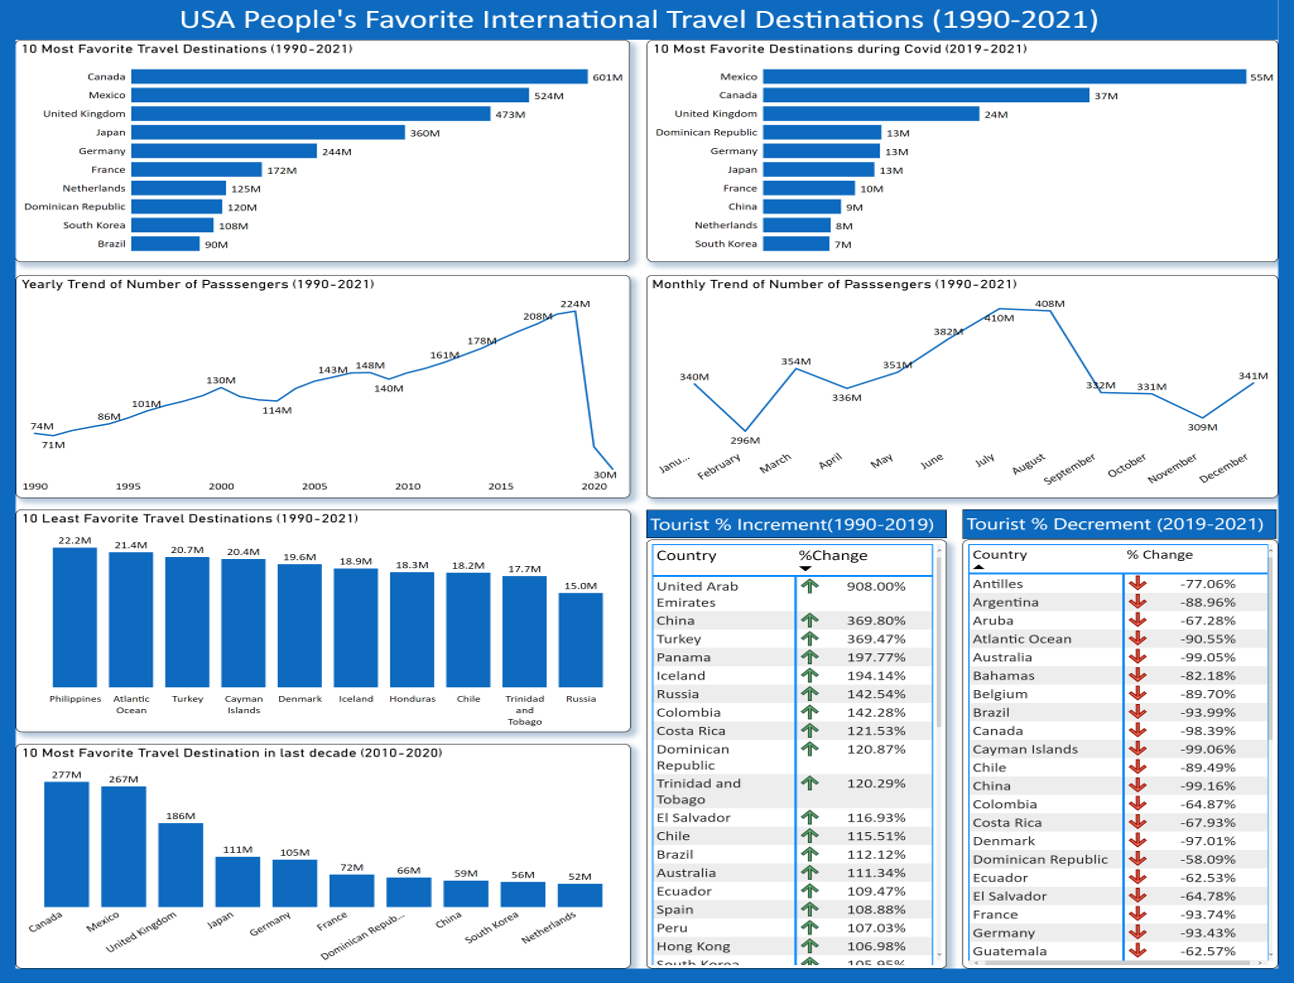

This screenshot's page, from the dashboard's own definition file:
{"tool":"powerbi","page":{"name":"Page 1","canvas":[2050,1980],"ordinal":0},"visuals":[{"type":"clusteredBarChart","title":"10 Most Favorite Travel Destinations (1990-2021)","fields":{"Category":["Table1.Country"],"Y":["Sum(Table1.Total Passengers)"]},"box":[24,80,974,448],"z":0},{"type":"lineChart","title":"Yearly Trend of Number of Passsengers (1990-2021)","fields":{"Y":["Sum(Table1.Total Passengers)"],"Category":["Table1.Month.Variation.Date Hierarchy.Year"]},"box":[25.3,554.1,973.4,448.8],"z":1000},{"type":"clusteredBarChart","title":"10 Most Favorite  Destinations during Covid (2019-2021)","fields":{"Category":["Table1.Country"],"Y":["Sum(Table1.Total Passengers)"]},"box":[1025,80,1000,448],"z":2000},{"type":"clusteredColumnChart","title":"10 Least Favorite Travel Destinations (1990-2021)","fields":{"Category":["Table1.Country"],"Y":["Sum(Table1.Total Passengers)"]},"box":[24.9,1026,974.1,448.6],"z":3000},{"type":"lineChart","title":"Monthly Trend of Number of Passsengers (1990-2021)","fields":{"Y":["Sum(Table1.Total Passengers)"],"Category":["Table1.Month.Variation.Date Hierarchy.Month"]},"box":[1023.9,554.1,1000.8,448.8],"z":4000},{"type":"clusteredColumnChart","title":"10 Most Favorite Travel Destination in last decade (2010-2020)","fields":{"Category":["Table1.Country"],"Y":["Sum(Table1.Total Passengers)"]},"box":[25,1498,974,453],"z":5000},{"type":"pivotTable","title":"Before Covid v/s During Covid","fields":{"Values":["Table1.Total Passengers % difference from 2019"],"Rows":["Table1.Country"]},"box":[1525,1087,500,864],"z":6000},{"type":"pivotTable","fields":{"Values":["Table1.Change (1990-2019)"],"Rows":["Table1.Country"]},"box":[1024,1087,476,864],"z":7000},{"type":"textbox","box":[0,0,2024.7,80.1],"z":8000},{"type":"textbox","box":[1024,1027,476,57],"z":9000},{"type":"textbox","box":[1525.4,1025.9,497.7,59.3],"z":10000},{"type":"shape","box":[0,0,24.9,1951.5],"z":11000},{"type":"shape","box":[2024.7,0,25.3,1951],"z":12000},{"type":"shape","box":[0,1951,2050,29],"z":13000}]}

Visuals, with their boxes in screenshot pixels (x1, y1, x2, y2):
"10 Most Favorite Travel Destinations (1990-2021)" clusteredBarChart: 325 75 787 288
"Yearly Trend of Number of Passsengers (1990-2021)" lineChart: 325 300 787 513
"10 Most Favorite  Destinations during Covid (2019-2021)" clusteredBarChart: 800 75 1274 288
"10 Least Favorite Travel Destinations (1990-2021)" clusteredColumnChart: 325 524 787 737
"Monthly Trend of Number of Passsengers (1990-2021)" lineChart: 799 300 1274 513
"10 Most Favorite Travel Destination in last decade (2010-2020)" clusteredColumnChart: 325 748 787 962
"Before Covid v/s During Covid" pivotTable: 1037 553 1274 962
pivotTable - Table1.Change (1990-2019) x Table1.Country: 799 553 1025 962
textbox: 313 37 1274 75
textbox: 799 524 1025 551
textbox: 1037 524 1273 552
shape: 313 37 325 963
shape: 1274 37 1286 962
shape: 313 962 1286 976
